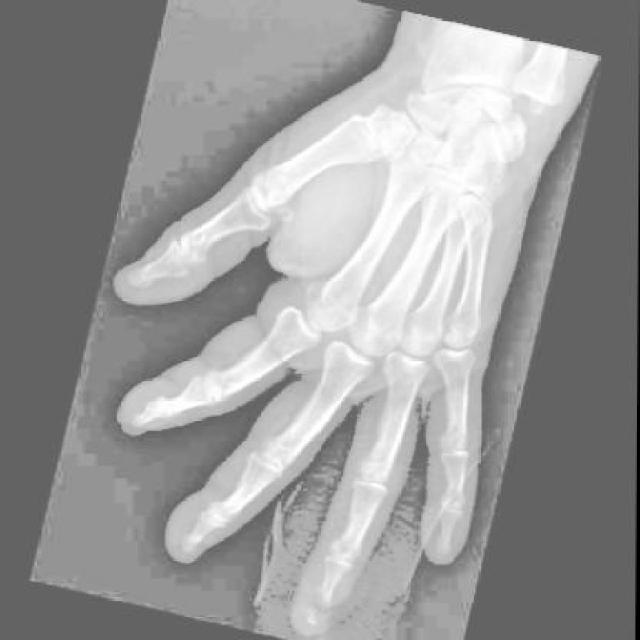Fracture: (300, 588, 342, 634)
